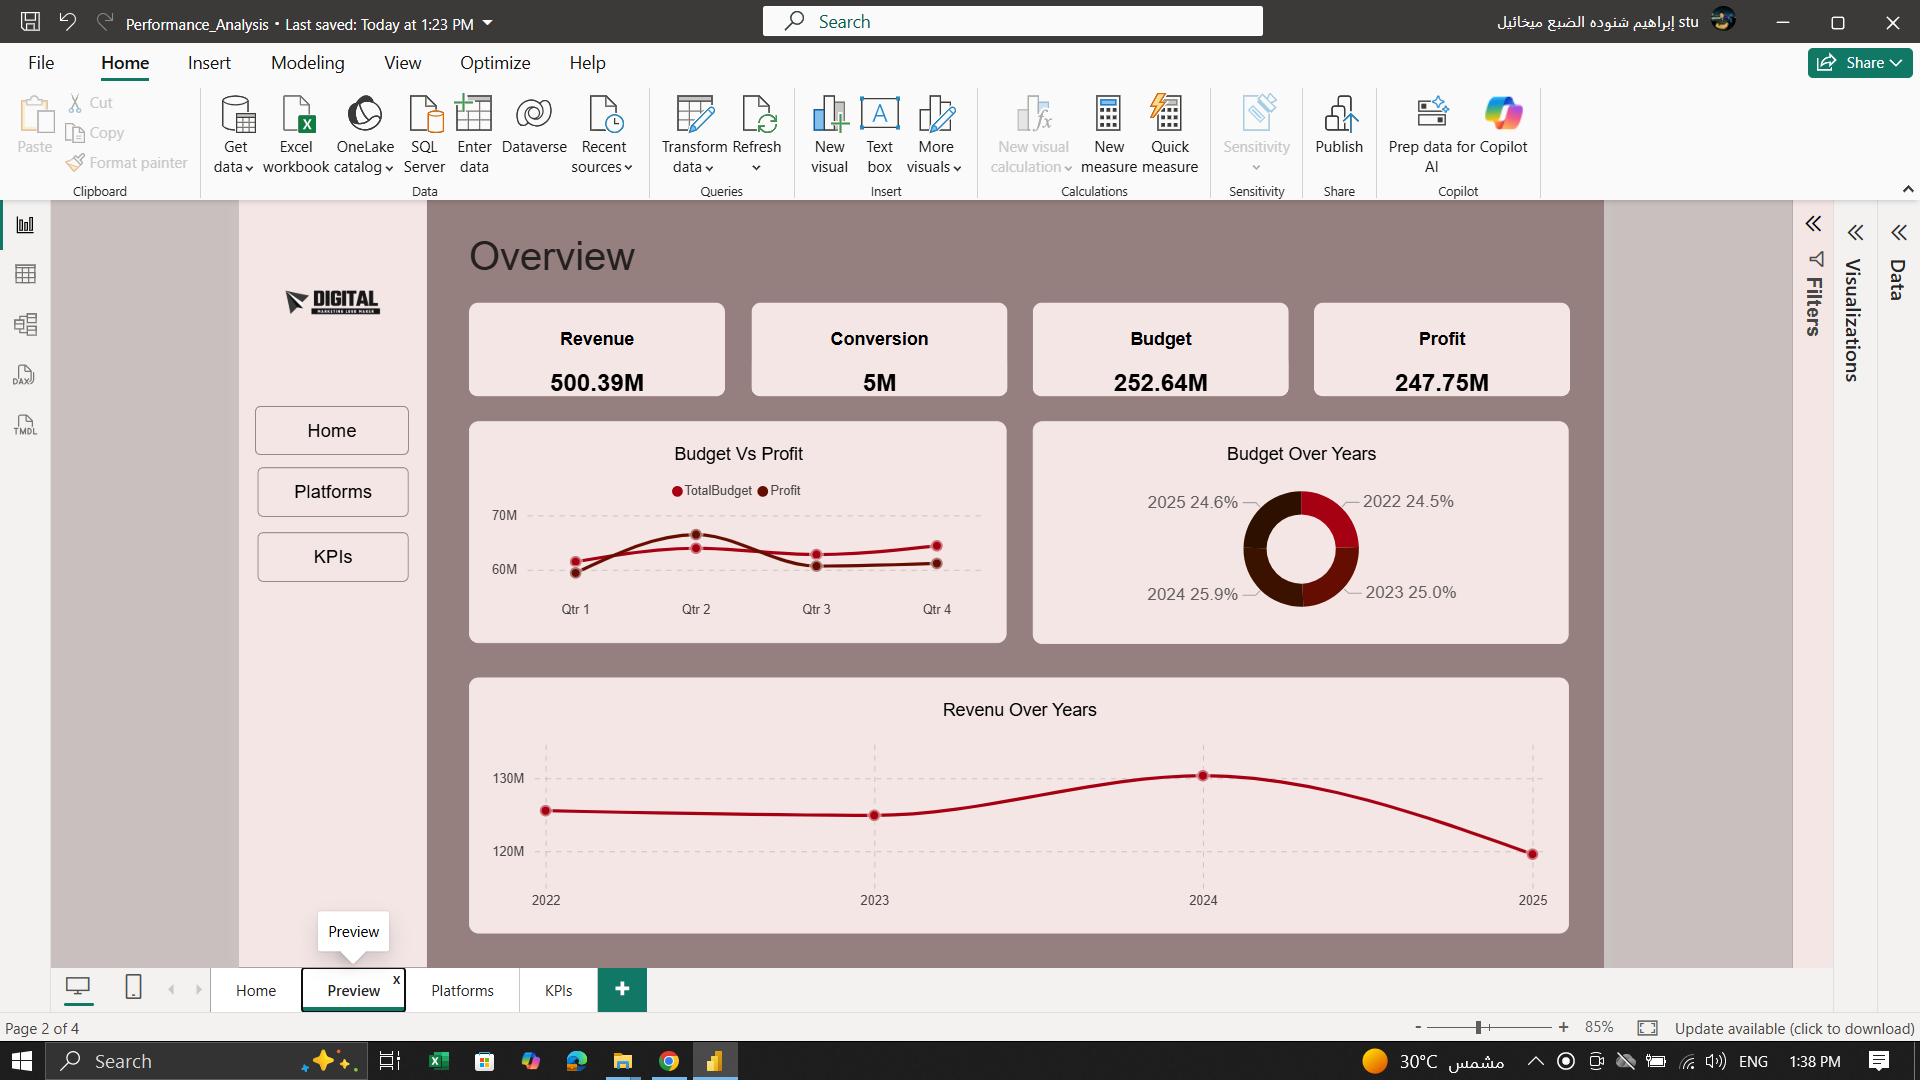

The page's visual inventory and layout, read from the dashboard file:
{"tool":"powerbi","page":{"name":"Preview","canvas":[1280,720],"ordinal":1},"visuals":[{"type":"shape","box":[0,0,175.8,719.5],"z":0,"group":"g2"},{"type":"donutChart","title":"Budget Over Years","fields":{"Category":["marketing_and_product_performance.Date.Variation.Date Hierarchy.Year"],"Y":["MeasureTable.TotalBudget"]},"box":[744.2,207.4,502.7,208.6],"z":0},{"type":"group","id":"g1","title":"Page navigation","box":[14.1,192.2,146.5,167.6],"z":250,"group":"g2"},{"type":"lineChart","title":"Budget Vs Profit","fields":{"Y":["MeasureTable.TotalBudget","MeasureTable.Profit"],"Category":["marketing_and_product_performance.Date.Variation.Date Hierarchy.Quarter"]},"box":[216,208,504,208],"z":1000},{"type":"cardVisual","title":"Profit","fields":{"Data":["MeasureTable.Profit"]},"box":[1008,96,240,88],"z":2000},{"type":"cardVisual","title":"Budget","fields":{"Data":["MeasureTable.TotalBudget"]},"box":[744,96,240,88],"z":3000},{"type":"cardVisual","title":"Revenue","fields":{"Data":["MeasureTable.TotalRevenue"]},"box":[215.6,96.1,240.2,87.9],"z":4000},{"type":"textbox","title":"Page title","box":[216,32,440,48],"z":5000},{"type":"group","id":"g2","title":"Side Bar","box":[0,0,175.8,719.5],"z":6000},{"type":"cardVisual","title":"Conversion","fields":{"Data":["MeasureTable.TotalConversion"]},"box":[480,96,240,88],"z":7000},{"type":"lineChart","title":"Revenu Over Years","fields":{"Category":["marketing_and_product_performance.Date.Variation.Date Hierarchy.Year"],"Y":["MeasureTable.TotalRevenue"]},"box":[215.6,447.7,1031.3,240.2],"z":8000},{"type":"image","box":[0,0,175.8,192.2],"z":9000},{"type":"actionButton","box":[16.4,311,144,48.7],"z":12750,"group":"g1"},{"type":"actionButton","box":[16.4,250.1,144,48.7],"z":13000,"group":"g1"},{"type":"actionButton","box":[14.1,192.2,146.5,48.2],"z":15000,"group":"g1"}]}

Visuals, with their boxes on the page's 1280x720 design canvas (x1, y1, x2, y2). These are canvas units, not pixel positions in the 1920x1080 screenshot, which may show the page scaled, cropped or inside an application window:
shape: (x1=0, y1=0, x2=176, y2=720)
"Budget Over Years" donutChart: (x1=744, y1=207, x2=1247, y2=416)
"Page navigation" group: (x1=14, y1=192, x2=161, y2=360)
"Budget Vs Profit" lineChart: (x1=216, y1=208, x2=720, y2=416)
"Profit" cardVisual: (x1=1008, y1=96, x2=1248, y2=184)
"Budget" cardVisual: (x1=744, y1=96, x2=984, y2=184)
"Revenue" cardVisual: (x1=216, y1=96, x2=456, y2=184)
"Page title" textbox: (x1=216, y1=32, x2=656, y2=80)
"Side Bar" group: (x1=0, y1=0, x2=176, y2=720)
"Conversion" cardVisual: (x1=480, y1=96, x2=720, y2=184)
"Revenu Over Years" lineChart: (x1=216, y1=448, x2=1247, y2=688)
image: (x1=0, y1=0, x2=176, y2=192)
actionButton: (x1=16, y1=311, x2=160, y2=360)
actionButton: (x1=16, y1=250, x2=160, y2=299)
actionButton: (x1=14, y1=192, x2=161, y2=240)
